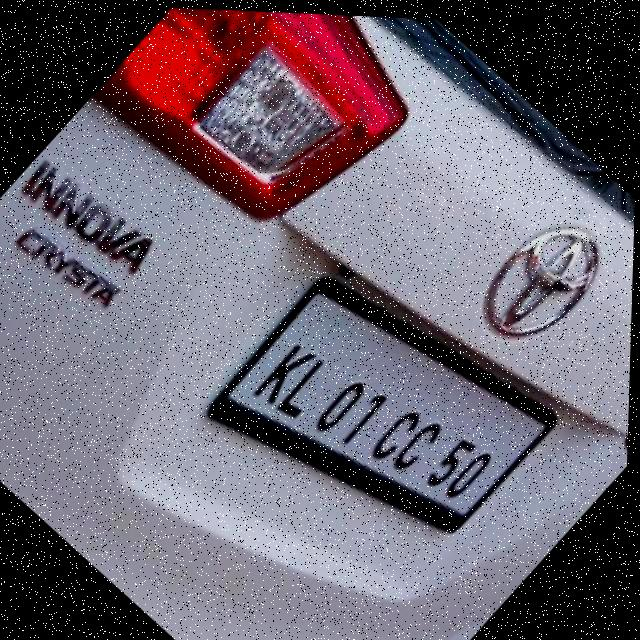license_plate: (225, 263, 520, 547)
